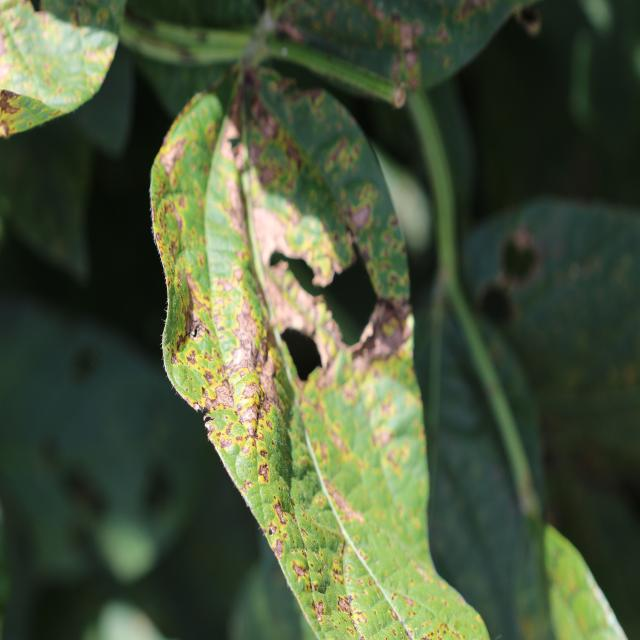Bacterial_Blight: (284, 269, 408, 398), (263, 472, 345, 626), (227, 292, 280, 434), (238, 70, 299, 172), (387, 23, 422, 97), (157, 127, 193, 184), (223, 177, 252, 238), (324, 479, 363, 521), (418, 616, 468, 640), (276, 14, 308, 43), (228, 128, 248, 171), (0, 88, 25, 117), (349, 203, 371, 232), (173, 321, 191, 353), (273, 500, 287, 525), (203, 370, 215, 385)
Soybean: (149, 64, 480, 640)
